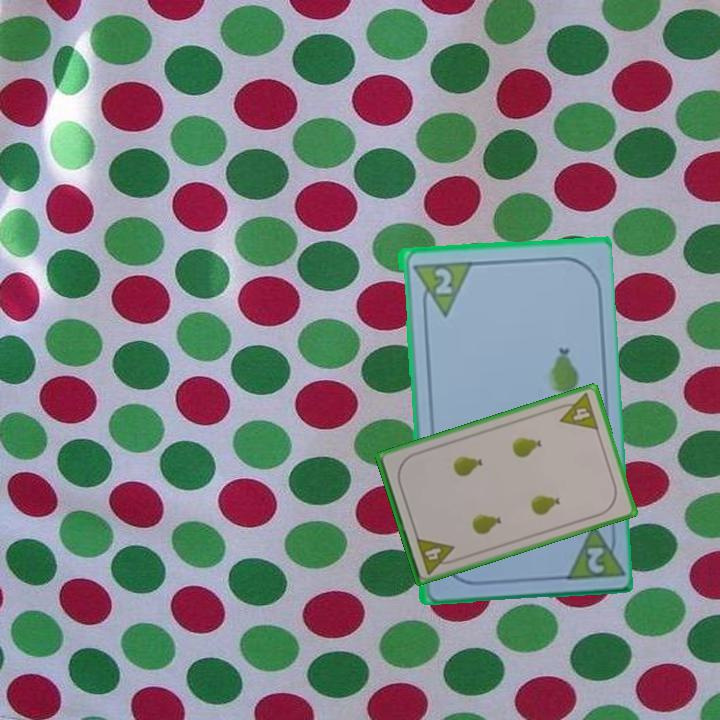2p: (583, 543, 607, 576), (431, 264, 454, 297)
4p: (553, 389, 601, 433), (413, 534, 460, 577)
